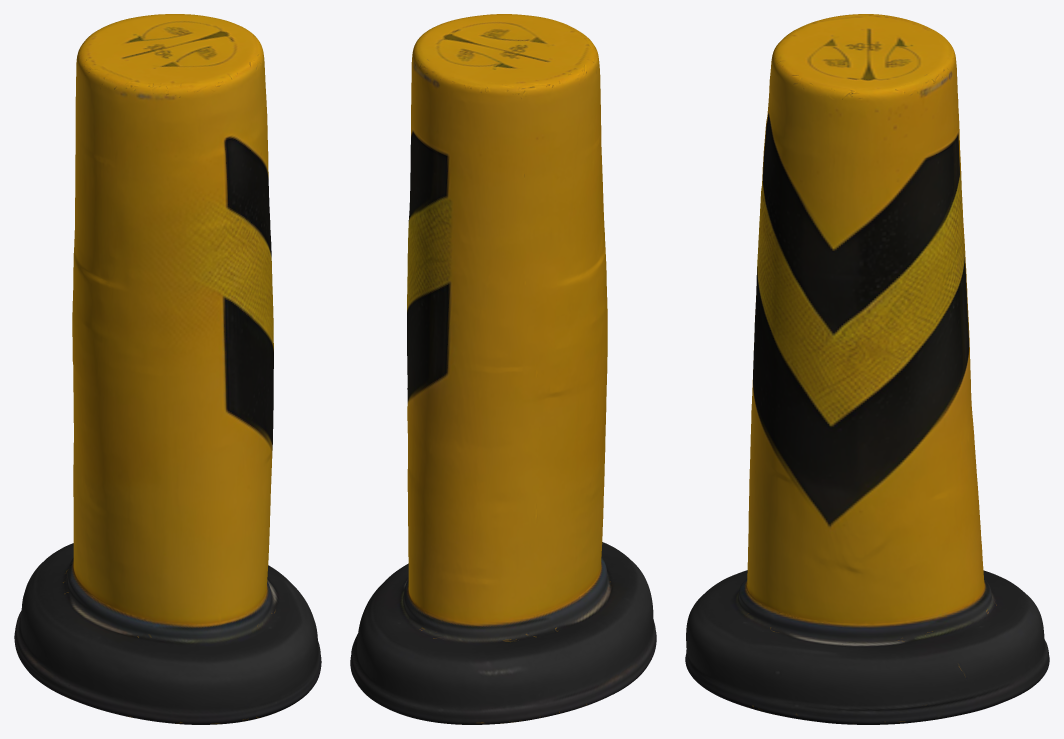
File: 6225707-traffic-cone.glb
3 renders of one model, left to right at view 1: azimuth 30°, elevation 25°; view 2: azimuth 150°, elevation 25°; view 3: azimuth 270°, elevation 25°, orthographic.
Visible parts, largest first — view 1: neural_node_ad9c0497-f6a8-44cb-bc35-c55ef2640a59; view 2: neural_node_ad9c0497-f6a8-44cb-bc35-c55ef2640a59; view 3: neural_node_ad9c0497-f6a8-44cb-bc35-c55ef2640a59.
Part boxes in pixels (x1,y1,x2,y2): neural_node_ad9c0497-f6a8-44cb-bc35-c55ef2640a59: (14, 14, 321, 724); neural_node_ad9c0497-f6a8-44cb-bc35-c55ef2640a59: (350, 14, 656, 724); neural_node_ad9c0497-f6a8-44cb-bc35-c55ef2640a59: (685, 14, 1049, 724).
Bounding box in the file's own units: 0.4174 × 0.9494 × 0.5103.
1 material, 1 textured.
